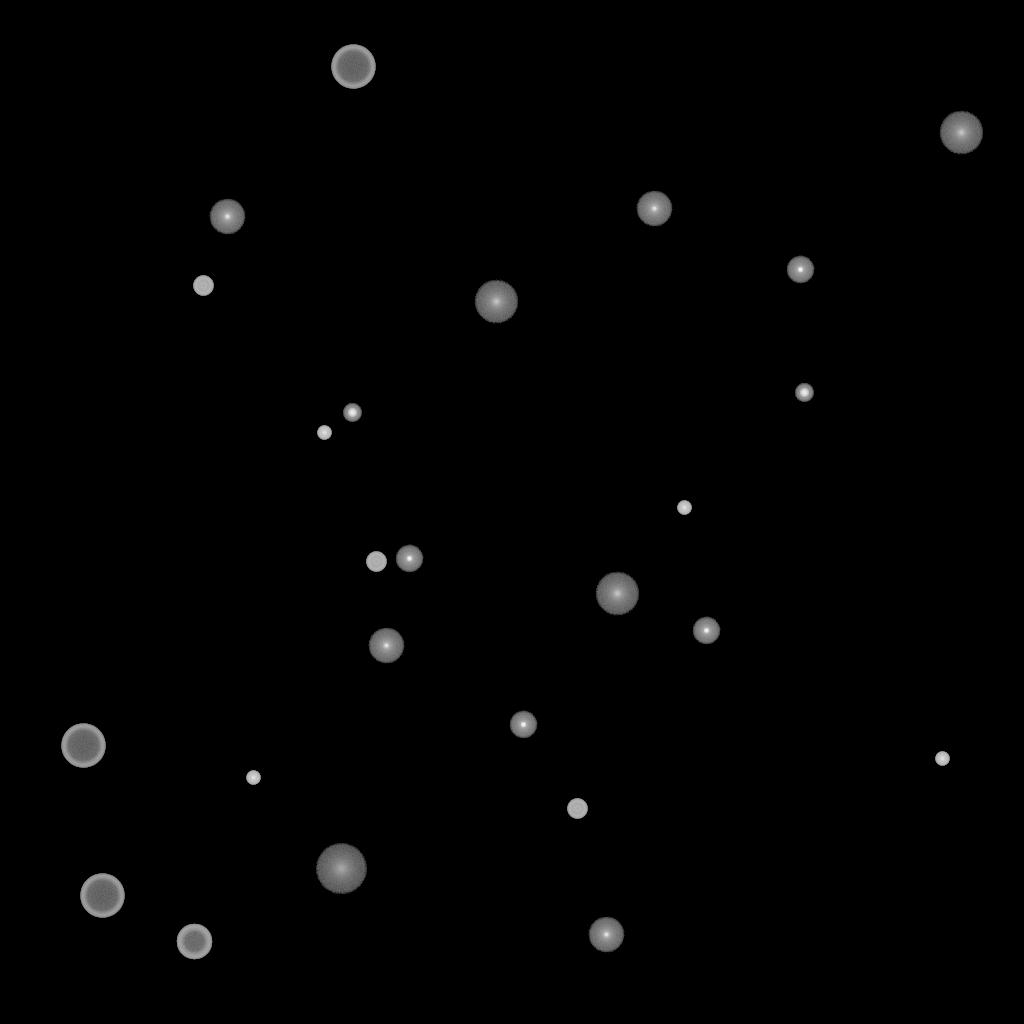depth:-10: (692, 617, 720, 645), (786, 256, 814, 284), (509, 711, 537, 739), (395, 545, 423, 573)
depth:-20: (343, 404, 361, 422), (795, 384, 813, 402)
depth:-30: (246, 771, 260, 785), (317, 426, 331, 440), (935, 752, 949, 766), (677, 501, 691, 515)
depth:-40: (193, 276, 213, 296), (366, 552, 386, 572), (567, 799, 587, 819)
depth:-60: (176, 924, 212, 960)
depth:-70: (80, 874, 124, 918), (61, 724, 105, 768), (331, 45, 375, 89)
depth:0: (368, 628, 404, 664), (636, 191, 672, 227), (588, 917, 624, 953), (209, 199, 245, 235)
depth:10: (595, 572, 639, 616), (939, 111, 983, 155), (474, 280, 518, 324)
depth:20: (315, 844, 367, 894)
